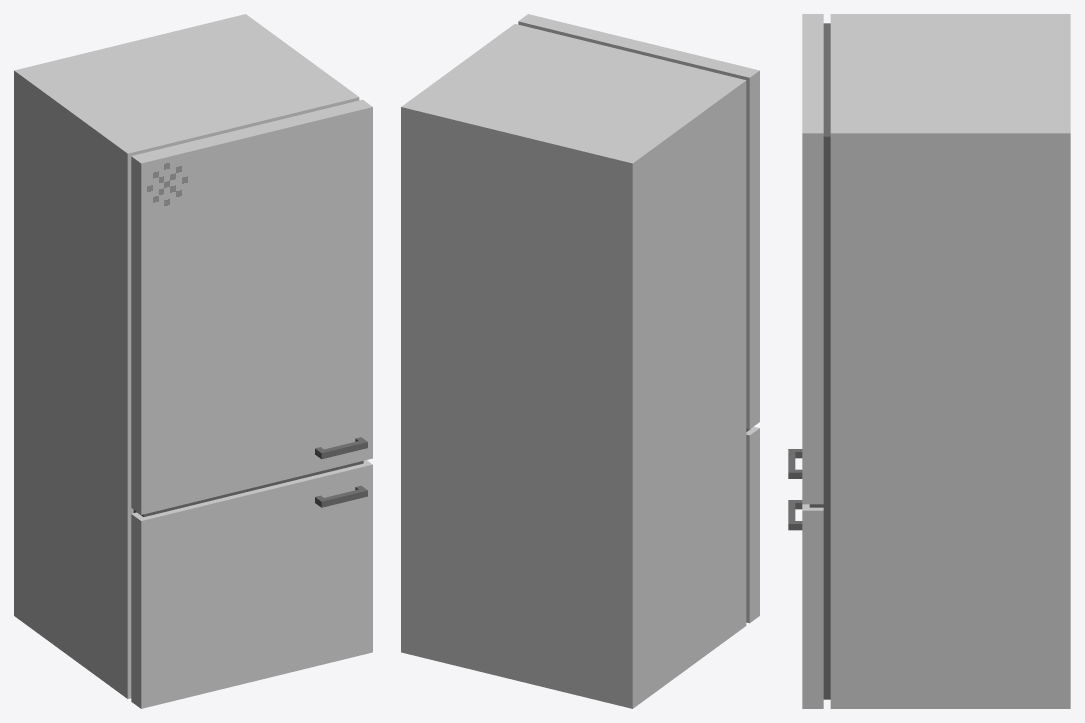
File: fridge.gltf
3 views of the same model, side by side, from view 1: azimuth 30°, elevation 25°; view 2: azimuth 150°, elevation 25°; view 3: azimuth 270°, elevation 25° (orthographic). The views are drawn at different scales.
Visible parts, largest first — view 1: fridge; view 2: fridge; view 3: fridge.
Part boxes in pixels (x1,y1,x2,y2): fridge: [14, 14, 372, 708]; fridge: [401, 14, 759, 708]; fridge: [788, 14, 1070, 708].
Bounding box in the file's own units: 4 × 9 × 4.
1 material, 1 textured.
